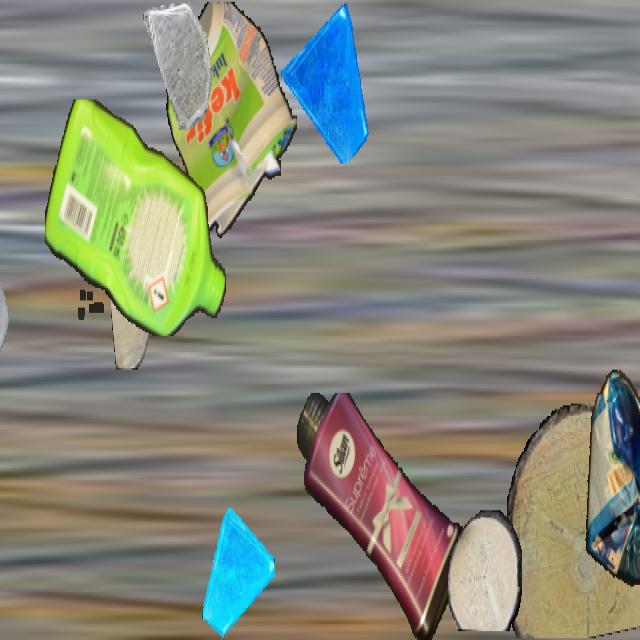glass: (281, 2, 371, 162), (200, 507, 274, 638), (143, 2, 215, 130), (0, 244, 21, 378)
plastic: (45, 100, 227, 334), (296, 393, 468, 638), (165, 2, 297, 247), (582, 366, 640, 608)
wood: (503, 404, 640, 638), (448, 510, 522, 631), (111, 238, 149, 370)
